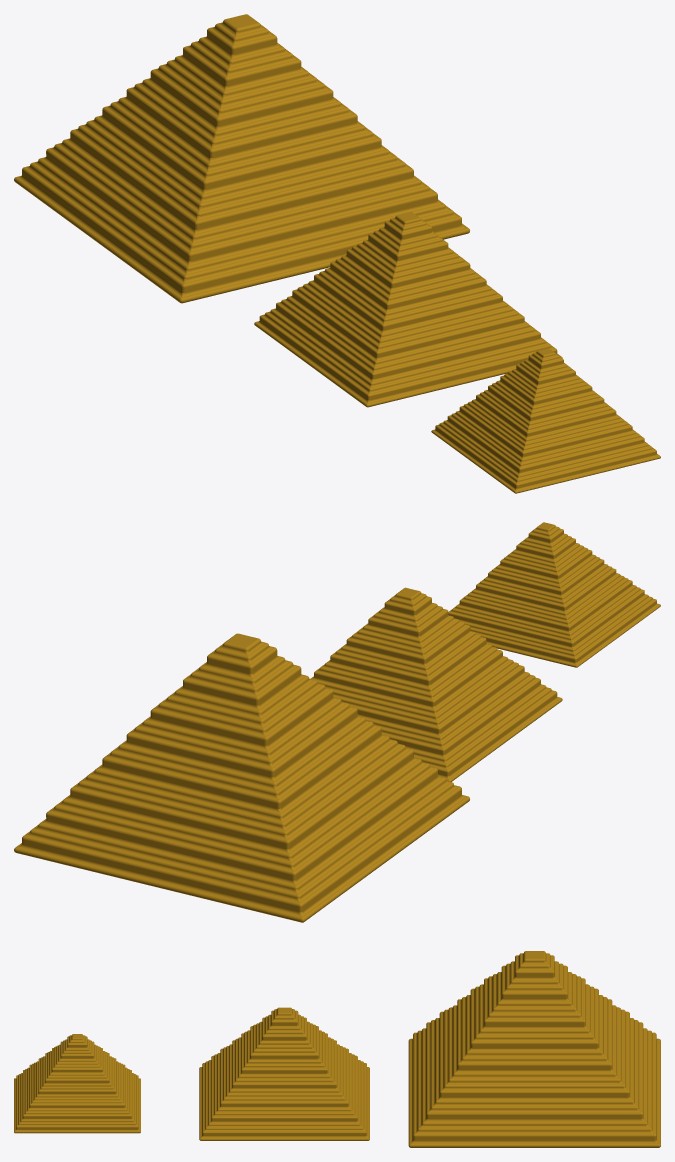
3 renders of one model, top to bottom at view 1: azimuth 30°, elevation 25°; view 2: azimuth 150°, elevation 25°; view 3: azimuth 270°, elevation 25°, orthographic. The views are drawn at different scales.
Parts seen in each view (by area): view 1: phramid.002, phramid.001, phramid; view 2: phramid.002, phramid.001, phramid; view 3: phramid.002, phramid.001, phramid.
Boxes of the visible parts, x1,y1,x2,y2 form: phramid.002: (14, 14, 469, 303); phramid.001: (254, 212, 562, 407); phramid: (431, 348, 660, 493); phramid.002: (14, 633, 469, 922); phramid.001: (310, 587, 562, 781); phramid: (448, 522, 660, 667); phramid.002: (408, 951, 660, 1147); phramid.001: (199, 1007, 369, 1140); phramid: (14, 1034, 140, 1133).
Bounding box in the file's own units: 2017 × 1339 × 5173.
